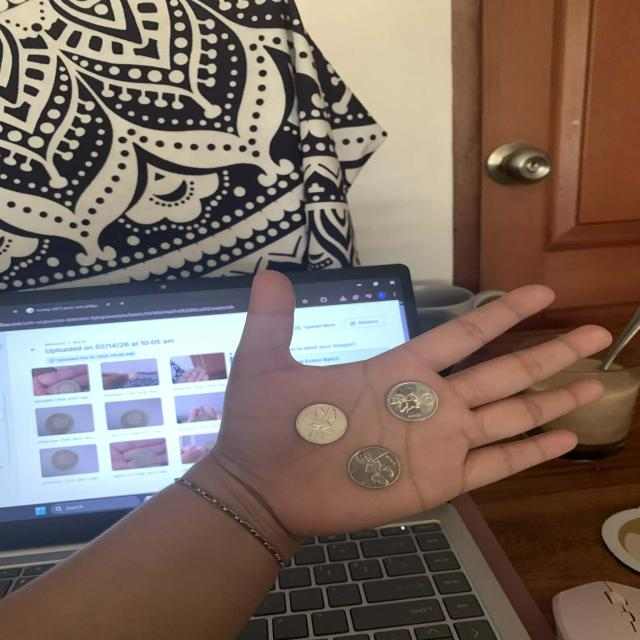25 cents: (383, 376, 442, 424), (294, 402, 352, 446), (346, 446, 403, 490)
